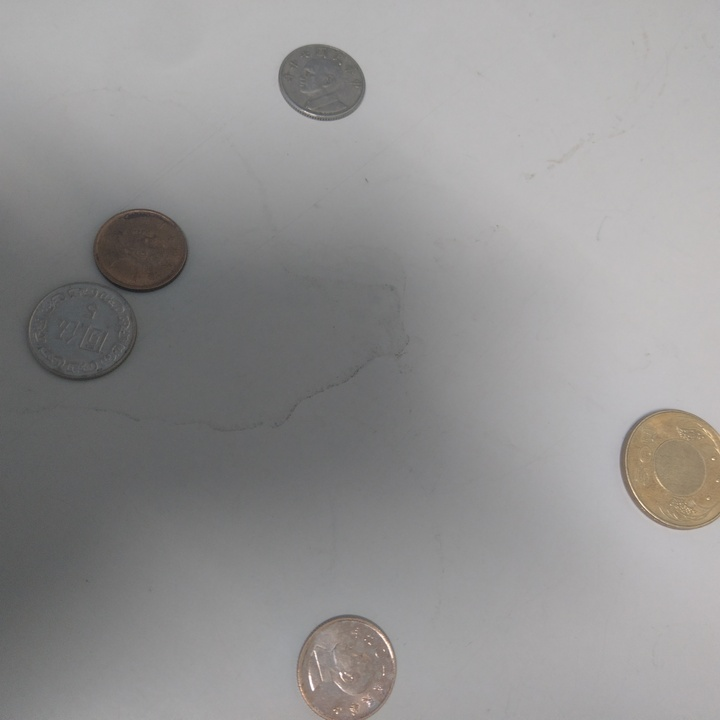1 dollar: (295, 615, 398, 719), (92, 207, 192, 295)
5 dollar: (27, 280, 141, 382), (278, 42, 369, 122)
50 dollar: (622, 407, 720, 536)
